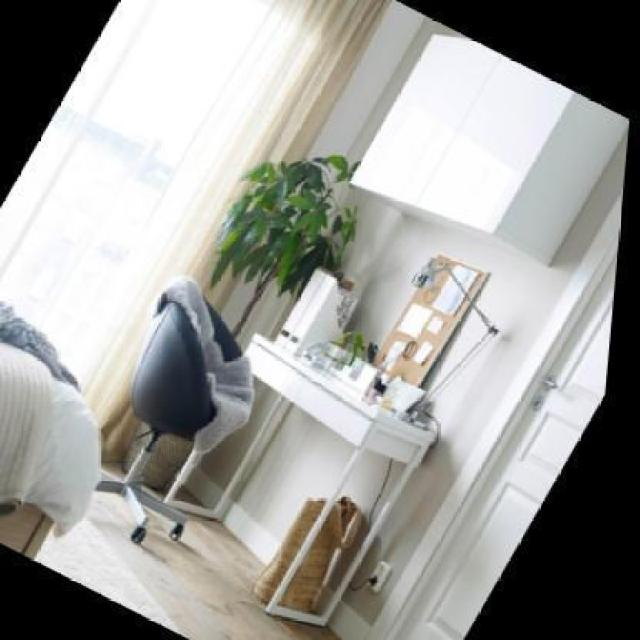tables: (240, 330, 438, 628)
